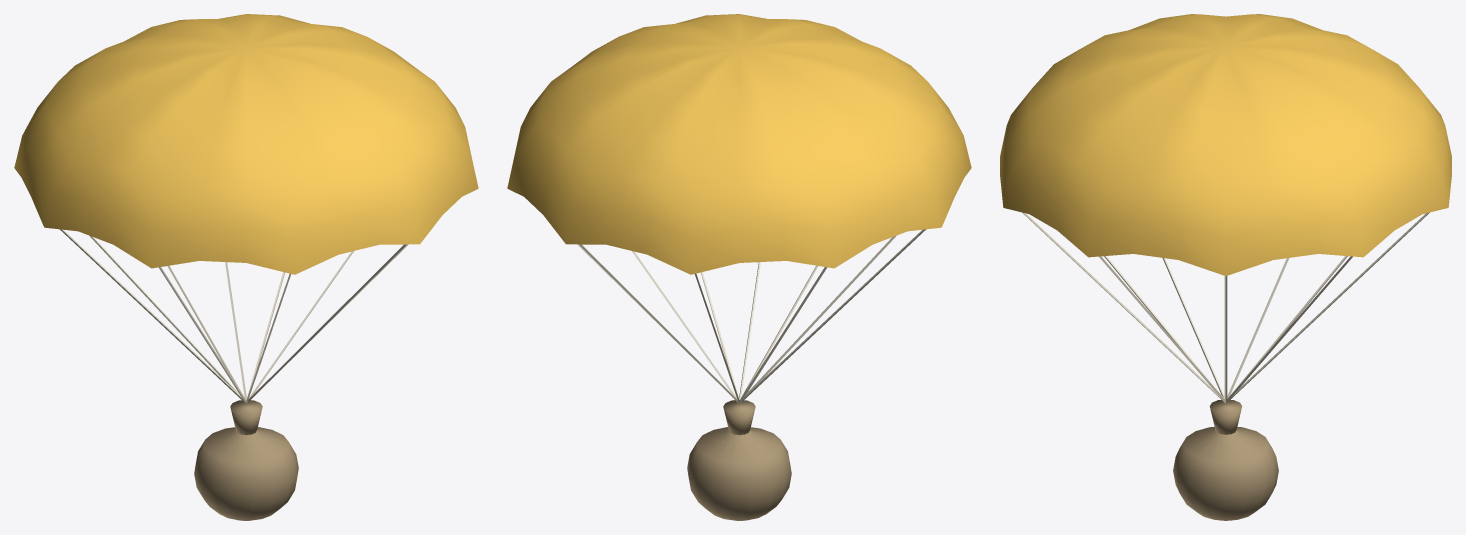
The model's file is golden_parachute.glb.
3 views of the same model, side by side, from view 1: azimuth 30°, elevation 25°; view 2: azimuth 150°, elevation 25°; view 3: azimuth 270°, elevation 25° (orthographic).
Visible parts, largest first — view 1: canopy, money_bag, cords; view 2: canopy, money_bag, cords; view 3: canopy, money_bag, cords.
Boxes of the visible parts, x1,y1,x2,y2 form: canopy: (14,14,478,274); money_bag: (194,400,298,520); cords: (60,229,408,403); canopy: (507,14,971,274); money_bag: (687,400,791,520); cords: (577,229,925,403); canopy: (1000,14,1451,275); money_bag: (1173,399,1278,520); cords: (1022,212,1429,402).
Size of the model in its own units: 2.3 by 2.55 by 2.22.
